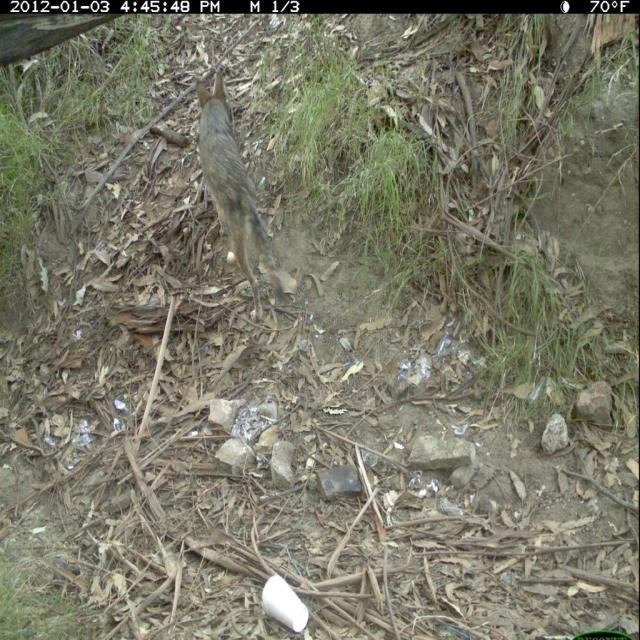coyote: (196, 66, 299, 323)
